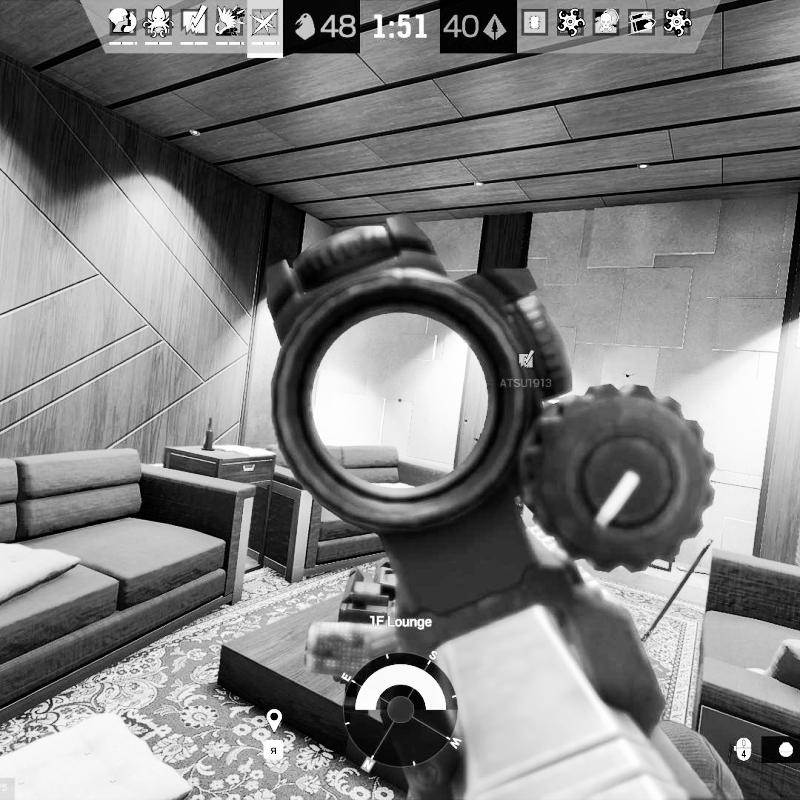Friend_label: (498, 350, 554, 390)
